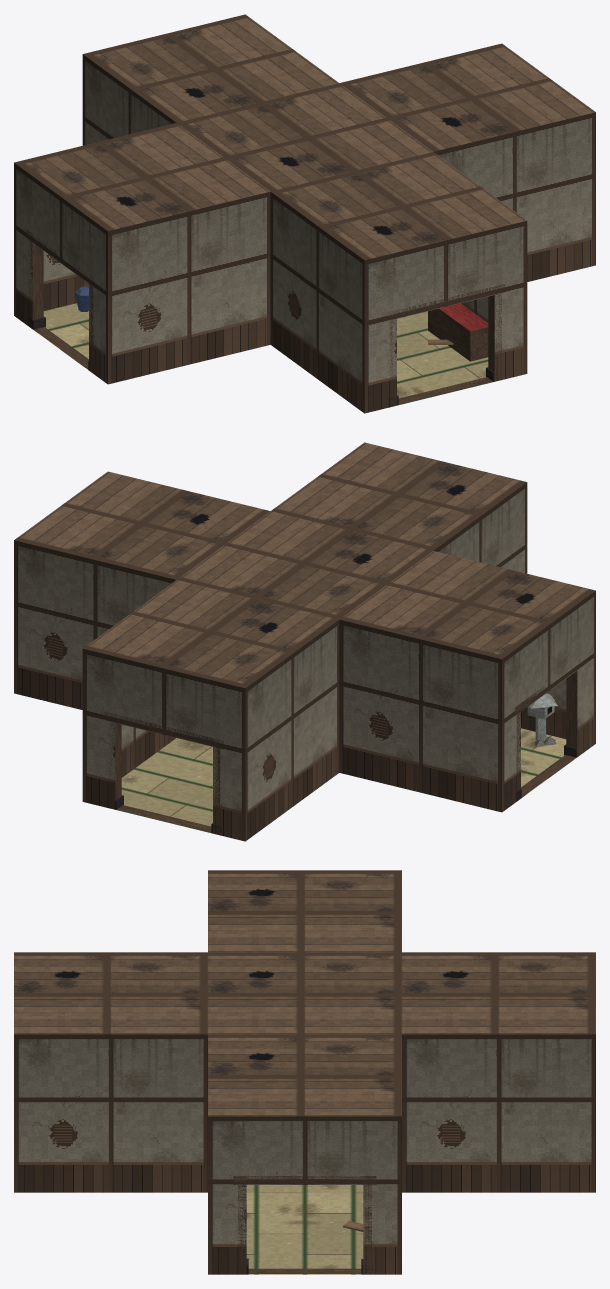
The picture shows the model from 3 angles, top to bottom: view 1: azimuth 30°, elevation 25°; view 2: azimuth 150°, elevation 25°; view 3: azimuth 270°, elevation 25°; orthographic projection. The views are drawn at different scales.
Parts seen in each view (by area): view 1: +_C, +_C_Deco; view 2: +_C, +_C_Deco; view 3: +_C, +_C_Deco.
Part boxes in pixels (x1,y1,x2,y2): +_C: (14,14,595,413); +_C_Deco: (27,286,500,407); +_C: (14,442,595,841); +_C_Deco: (107,706,577,835); +_C: (14,870,595,1274); +_C_Deco: (236,1221,373,1274).
Size of the model in its own units: 2 by 2 by 0.6.
Materials: 4 (4 with a texture image).
